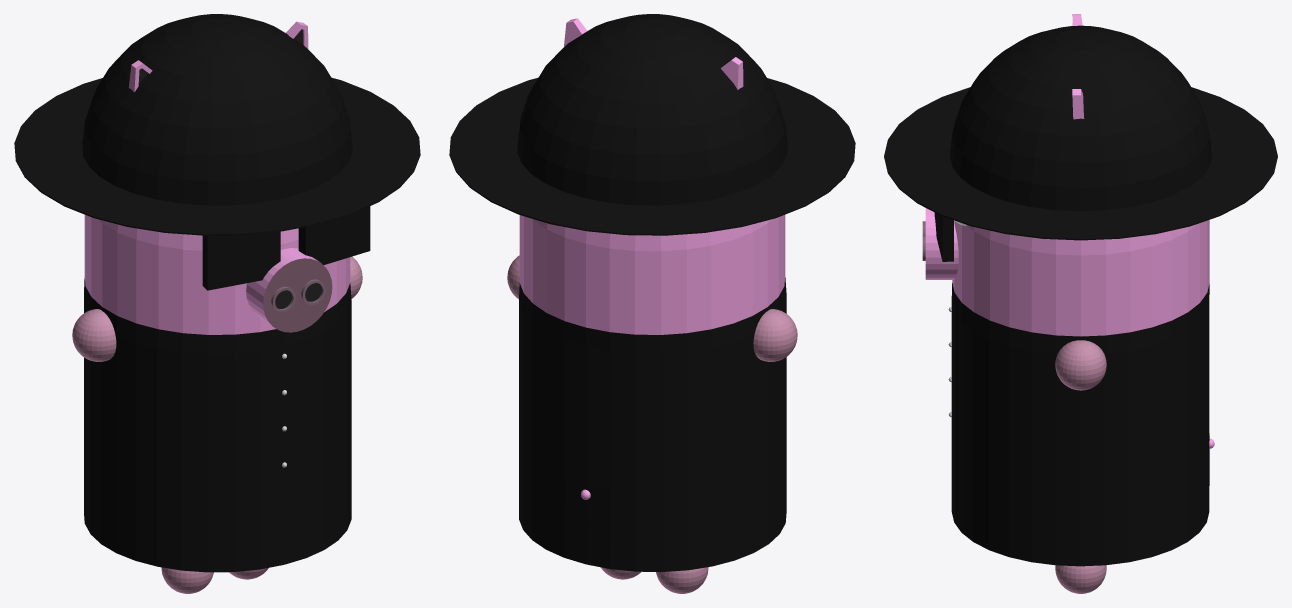
Rendered from Mafig.fbx.
3 views of the same model, side by side, from view 1: azimuth 30°, elevation 25°; view 2: azimuth 150°, elevation 25°; view 3: azimuth 270°, elevation 25° (orthographic). The views are drawn at different scales.
Visible parts, largest first — view 1: Pig; view 2: Pig; view 3: Pig.
Boxes of the visible parts, <box> form: Pig: <box>14,14,420,593</box>; Pig: <box>449,14,855,593</box>; Pig: <box>884,14,1277,593</box>.
Size of the model in its own units: 153 by 231 by 153.
